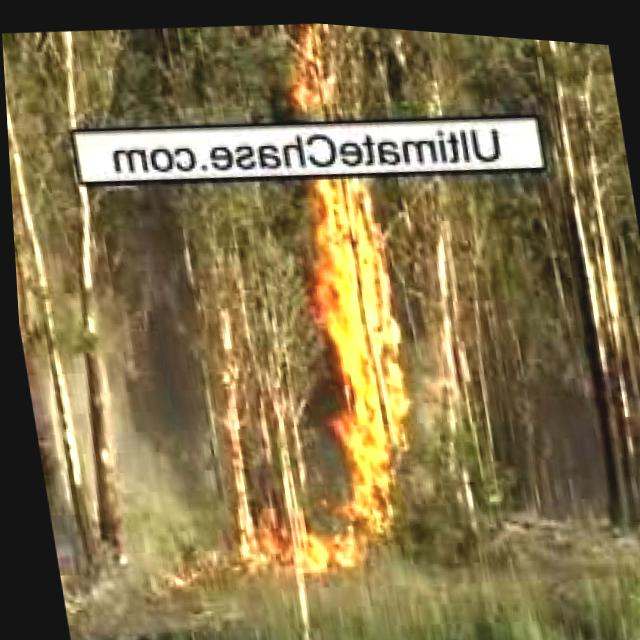helmet: (283, 164, 412, 472), (224, 468, 404, 592), (270, 23, 338, 107)
